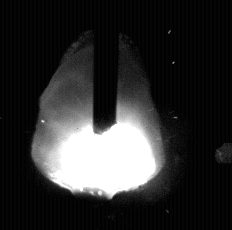arame: (93, 0, 119, 134)
poca: (31, 0, 164, 230)
